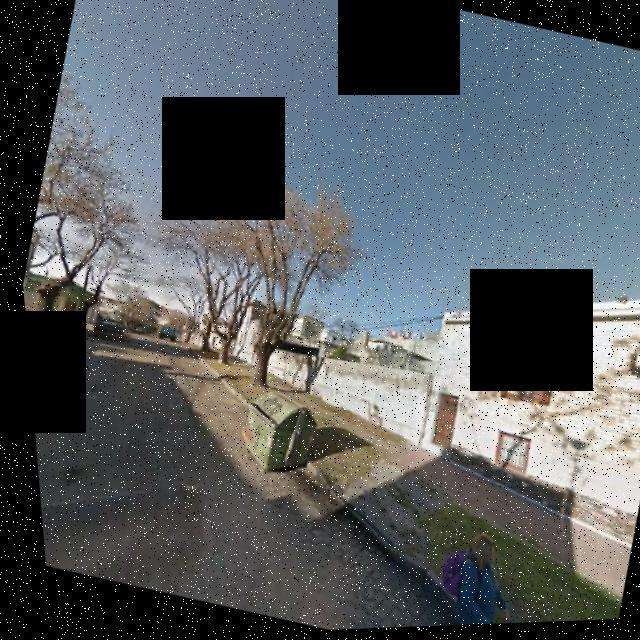bin: (209, 374, 327, 490)
